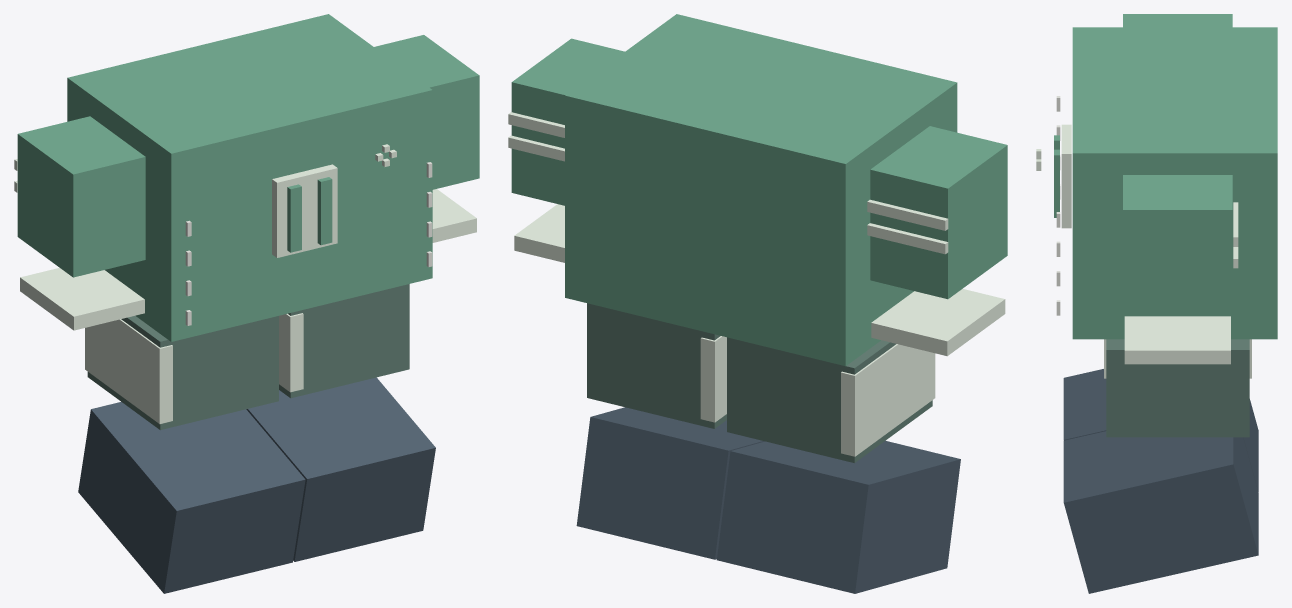
The model's file is sport-emerald.glb.
The picture shows the model from 3 angles, left to right: view 1: azimuth 30°, elevation 25°; view 2: azimuth 150°, elevation 25°; view 3: azimuth 270°, elevation 25°; orthographic projection. The views are drawn at different scales.
Visible parts, largest first — view 1: jacket, shoe-Right, shoe-Left, upper-sleeve-Right, trouser-Right, trouser-Left, upper-sleeve-Left, shorts-stripe-Right, cuff-Right, jersey-number, shorts-stripe-Left, cuff-Left (+2 smaller); view 2: jacket, shoe-Right, shoe-Left, upper-sleeve-Right, trouser-Right, trouser-Left, upper-sleeve-Left, shorts-stripe-Right, cuff-Right, shorts-stripe-Left, cuff-Left, design-sport-shoulder-stripe-Right-0 (+3 smaller); view 3: jacket, shoe-Left, upper-sleeve-Left, trouser-Left, cuff-Left, shoe-Right, upper-sleeve-Right, jersey-number, design-sport-number-eleven-0.025.
Part boxes in pixels (x1,y1,x2,y2): jacket: (67,14,432,341); shoe-Right: (78,402,305,593); shoe-Left: (246,377,435,561); upper-sleeve-Right: (17,116,145,277); trouser-Right: (87,316,278,429); trouser-Left: (279,284,409,398); upper-sleeve-Left: (374,35,479,189); shorts-stripe-Right: (85,319,172,423); cuff-Right: (20,267,144,330); jersey-number: (272,164,337,257); shorts-stripe-Left: (279,313,303,392); cuff-Left: (432,189,476,242); jacket: (565,14,957,366); shoe-Right: (717,440,960,593); shoe-Left: (576,407,764,559); upper-sleeve-Right: (870,126,1007,299); trouser-Right: (727,337,932,462); trouser-Left: (587,303,726,428); upper-sleeve-Left: (511,38,624,205); shorts-stripe-Right: (841,344,935,456); cuff-Right: (871,288,1005,356); shorts-stripe-Left: (700,336,726,422); cuff-Left: (514,204,564,262); design-sport-shoulder-stripe-Right-0: (867,199,948,230); jacket: (1072,27,1277,339); shoe-Left: (1063,431,1258,593); upper-sleeve-Left: (1123,175,1232,311); trouser-Left: (1106,339,1249,437); cuff-Left: (1124,316,1230,364); shoe-Right: (1063,369,1258,492); upper-sleeve-Right: (1123,14,1232,27); jersey-number: (1061,124,1071,228); design-sport-number-eleven-0.025: (1054,149,1059,217).
Size of the model in its own units: 1.07 by 1.13 by 0.559.
